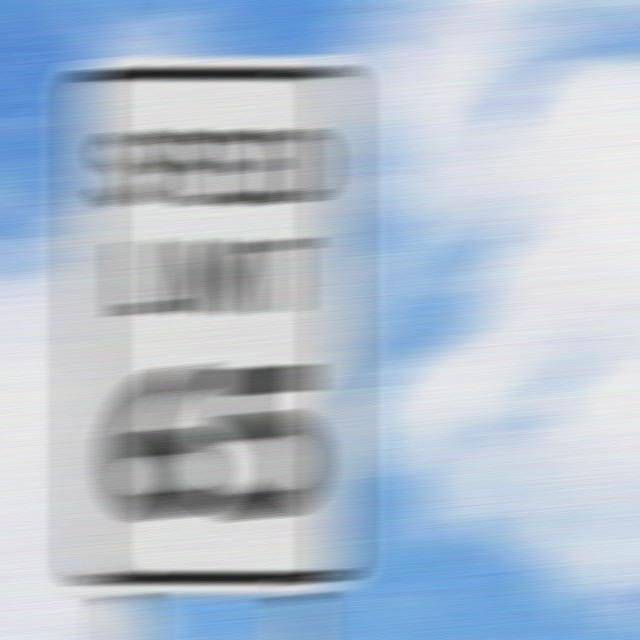speedLimit65: (73, 55, 347, 597)
